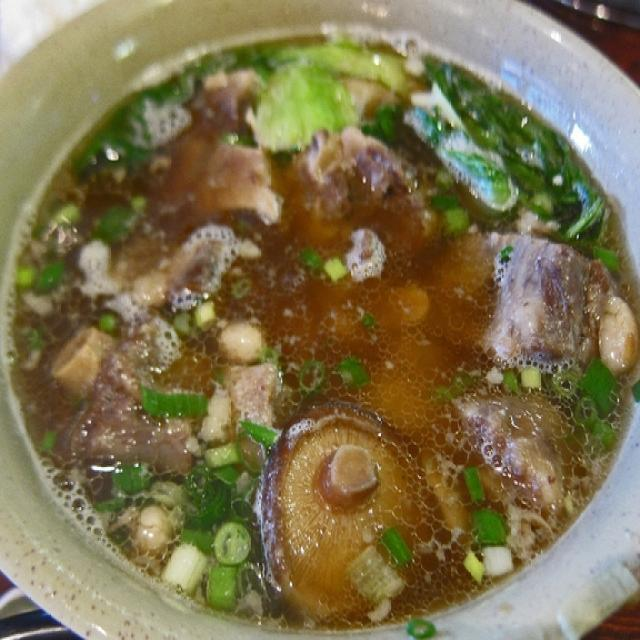汤锅炖物: (24, 31, 614, 615)
